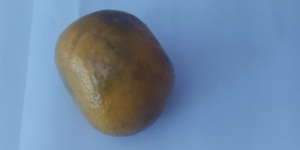BAD: (55, 9, 176, 137)
